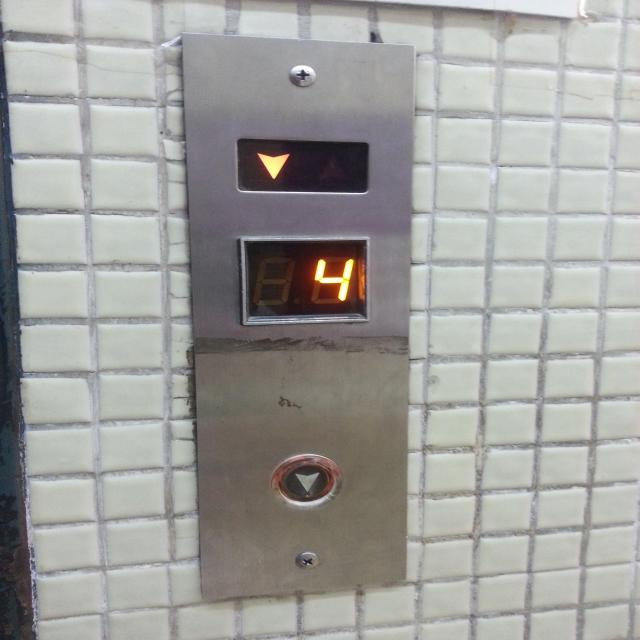down: (262, 451, 348, 510)
led: (237, 234, 375, 327), (232, 134, 372, 198)
